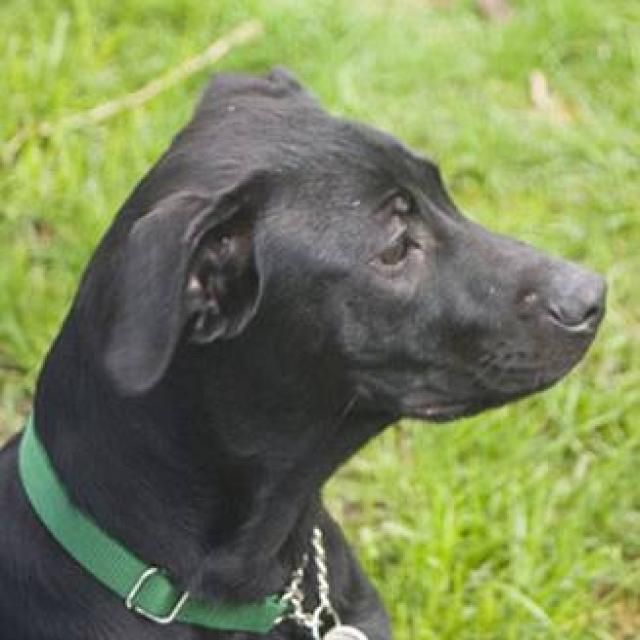dog: (0, 62, 609, 638)
